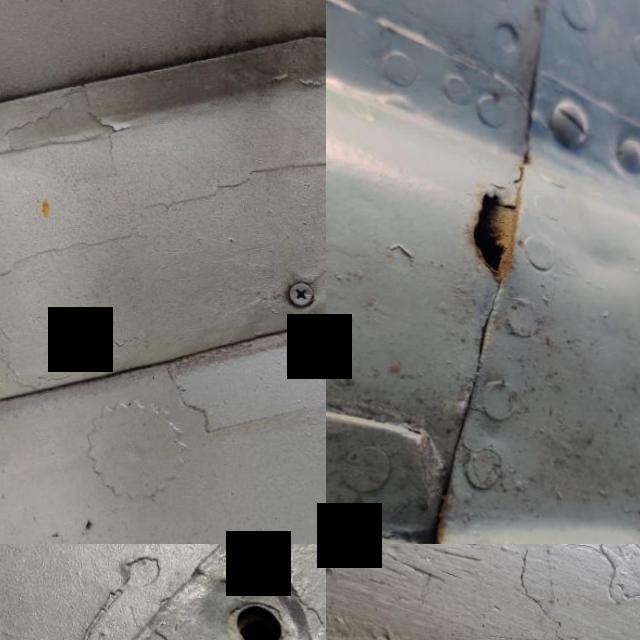Crack: (442, 174, 541, 306), (277, 302, 326, 393)
Missing_Fastener: (153, 544, 326, 640)
